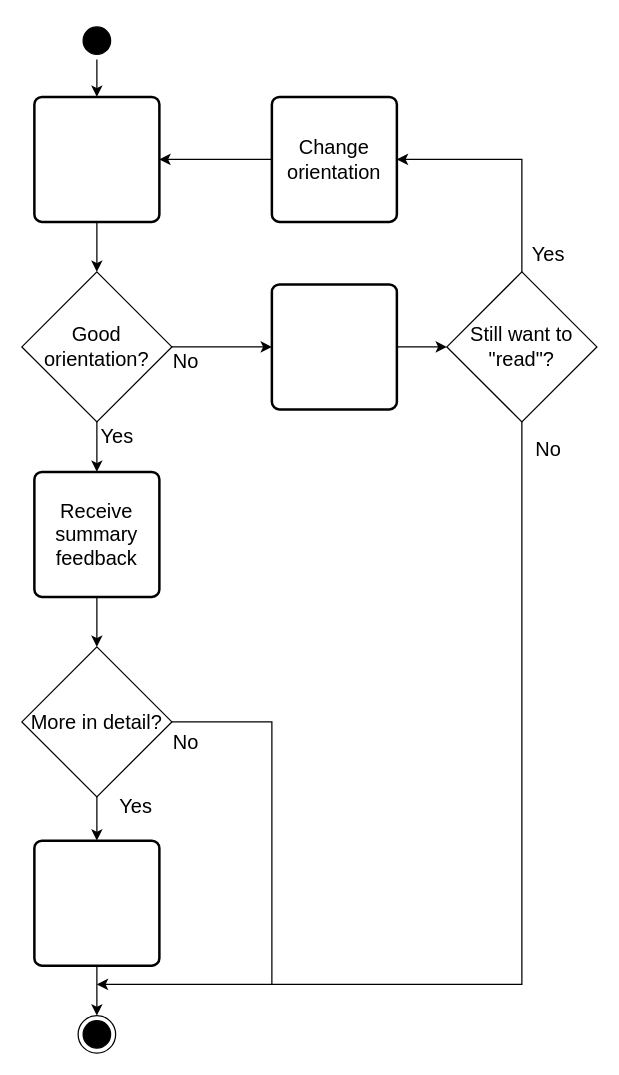
The diagram is 619 pixels wide and 1075 high, and some of its shapes have lost their labels. Each missing label, with the centre of its shape:
"Gaze" at document: pixel 96 158
Receive content feedback: pixel 96 902
Receive orientation feedback: pixel 334 346
